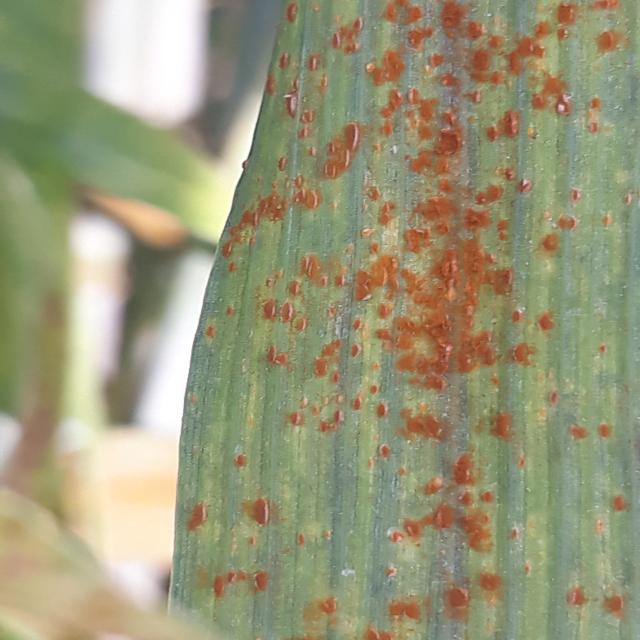orang_rust: (170, 0, 640, 640)
